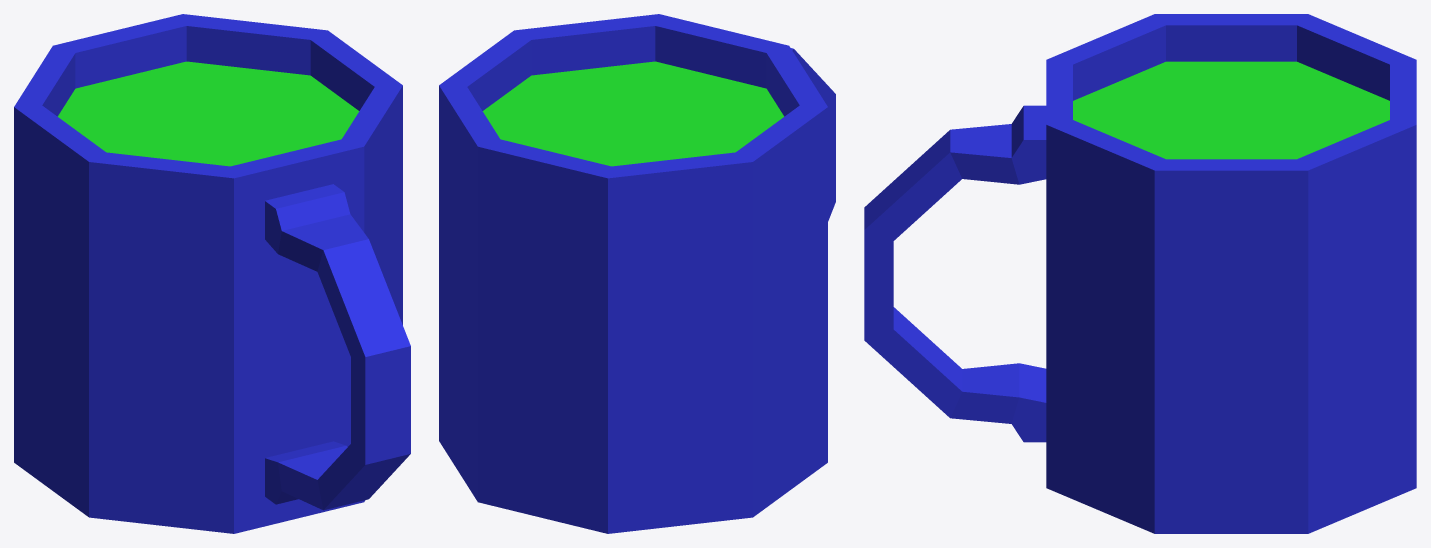
Rendered from mug.fbx.
3 renders of one model, left to right at view 1: azimuth 30°, elevation 25°; view 2: azimuth 150°, elevation 25°; view 3: azimuth 270°, elevation 25°, orthographic. The views are drawn at different scales.
Parts seen in each view (by area): view 1: Mug; view 2: Mug; view 3: Mug.
Part boxes in pixels (left/top/right/bottom): Mug: left=14, top=14, right=410, bottom=533; Mug: left=439, top=14, right=835, bottom=533; Mug: left=864, top=14, right=1416, bottom=533.
Size of the model in its own units: 73.87 by 79.95 by 110.
